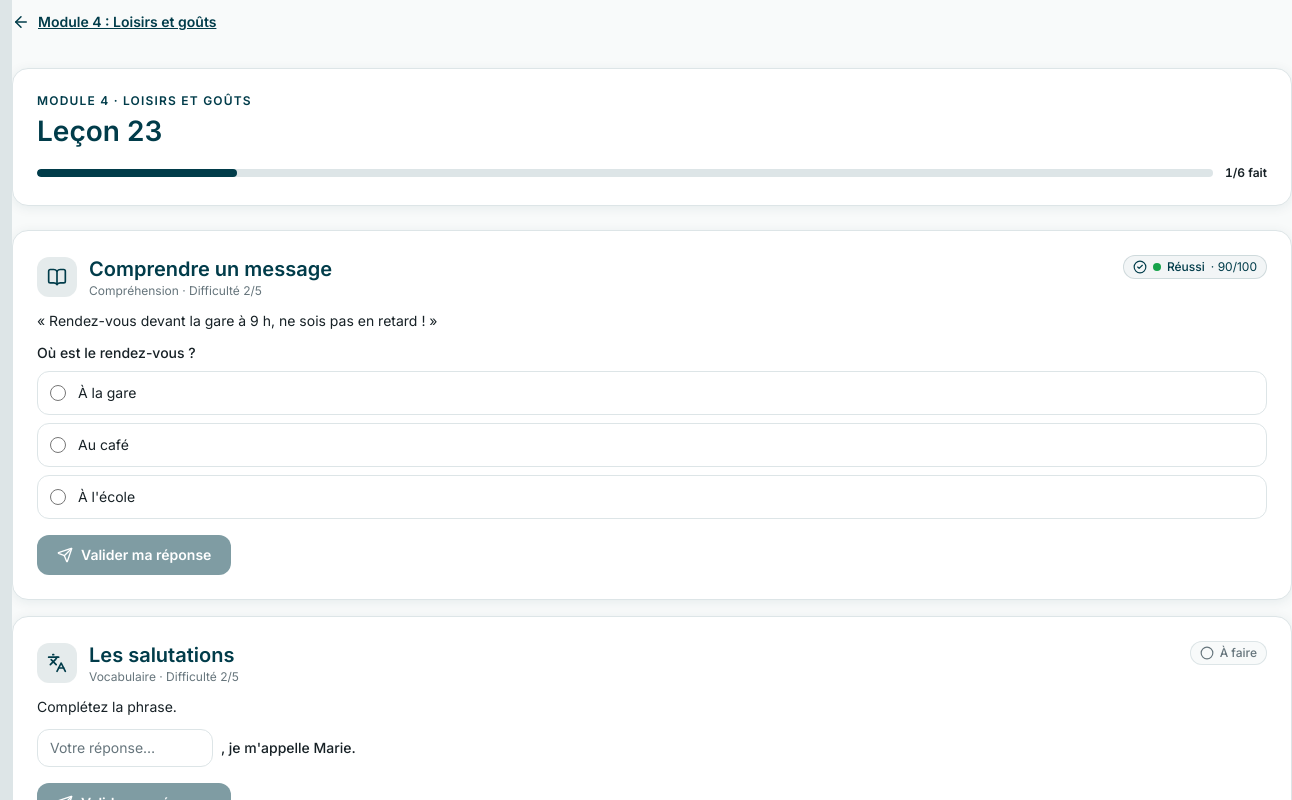
Scenario: Page d'une leçon › corrige automatiquement une phrase à compléter, fige la réponse puis propose de réessayer
Type "Merci" into the field labelled "Votre réponse" at (125, 748), box [37,729,213,767]
(page scrolled)
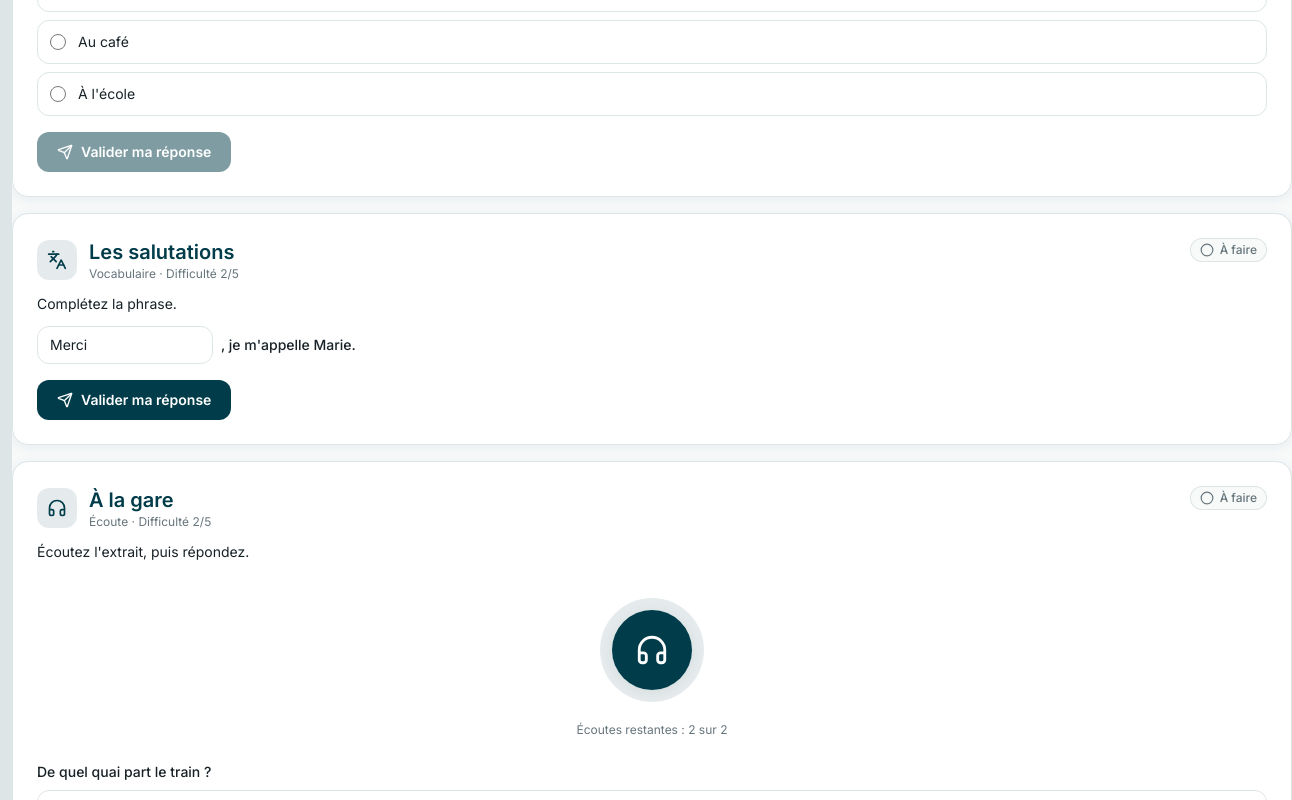
Click the button "Valider ma réponse" below ", je m'appelle Marie." at (134, 400), box [37,380,231,420]
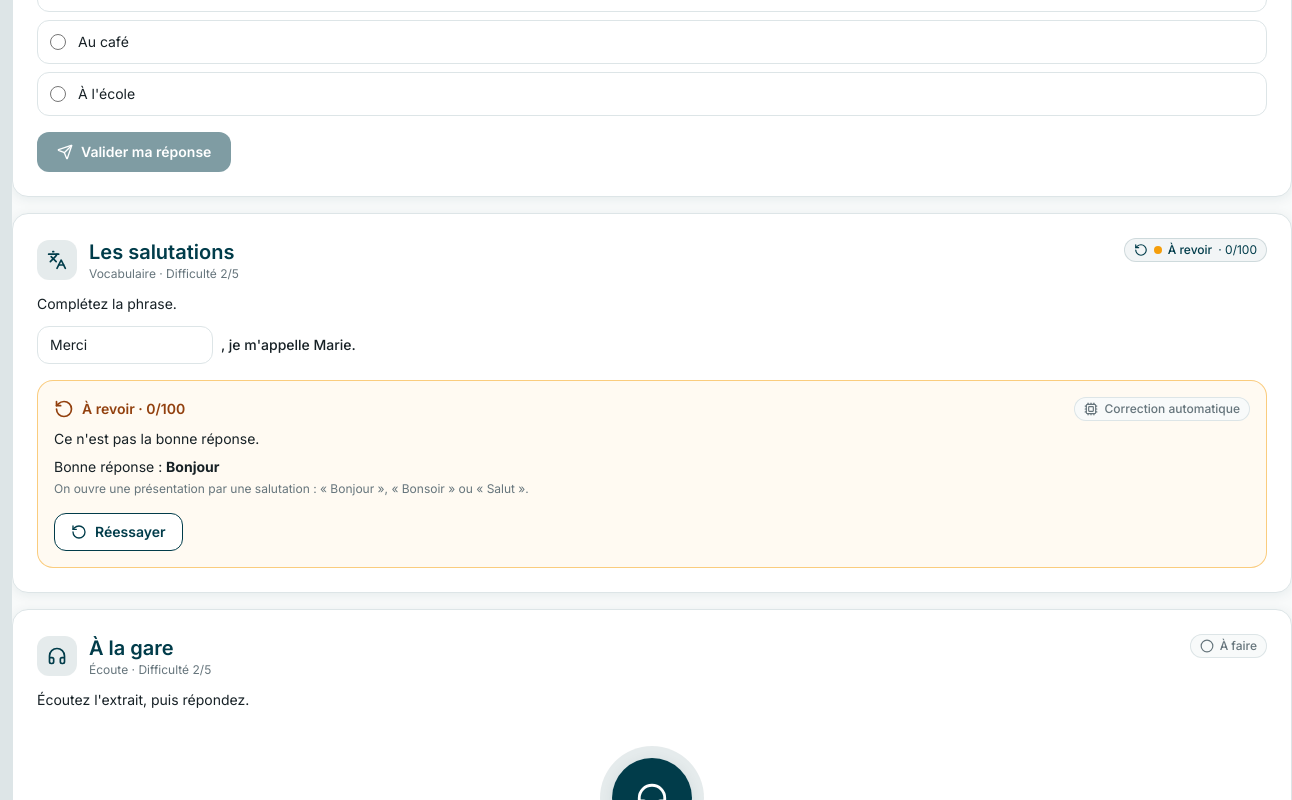
Expected: the element "Correction" shows "À revoir · 0/100", [37,380,1267,568]
Expected: the element "Correction" shows "Correction automatique", [1104,401,1240,416]
Expected: the element "Correction" shows "Bonne réponse : Bonjour", [37,380,1267,568]
Click the button "Réessayer" at (118, 532), box [54,513,182,551]
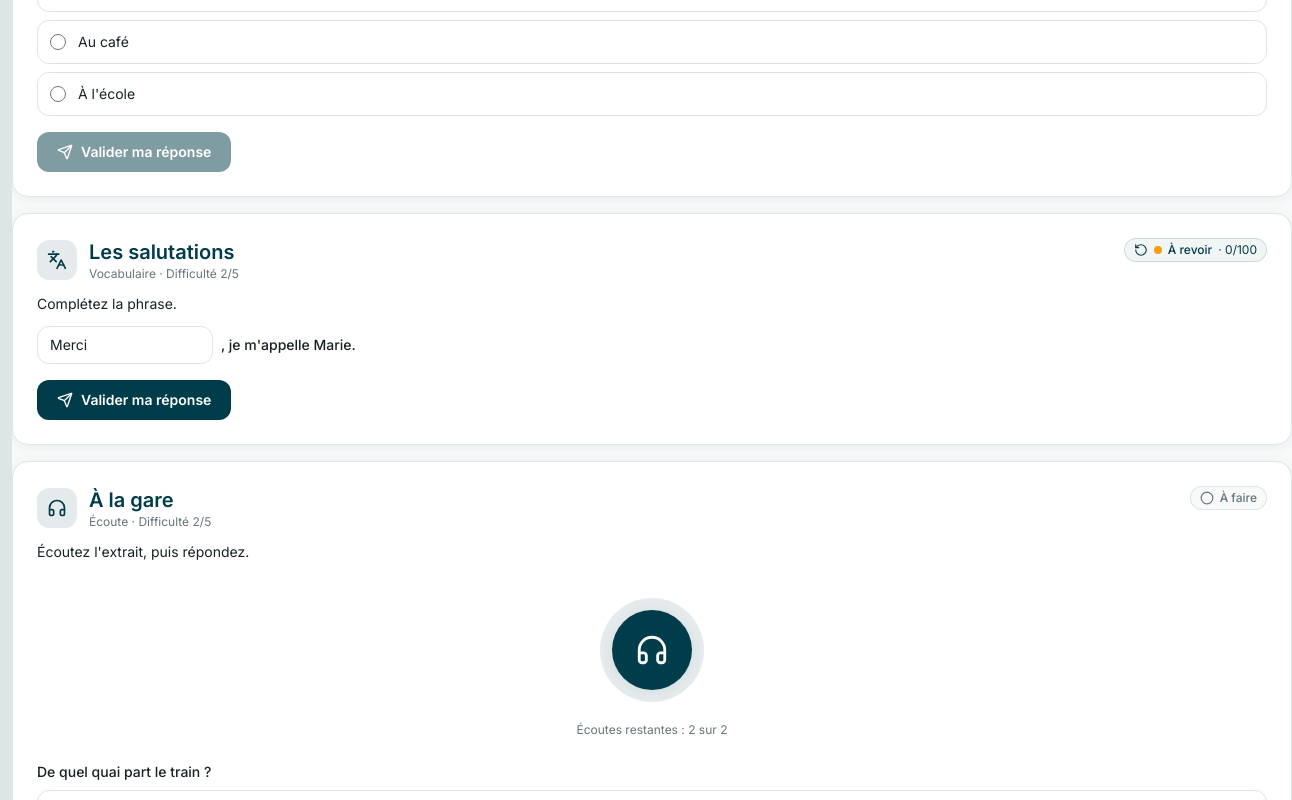
Expected: the button "Valider ma réponse" below ", je m'appelle Marie." is shown, [37,380,231,420]
